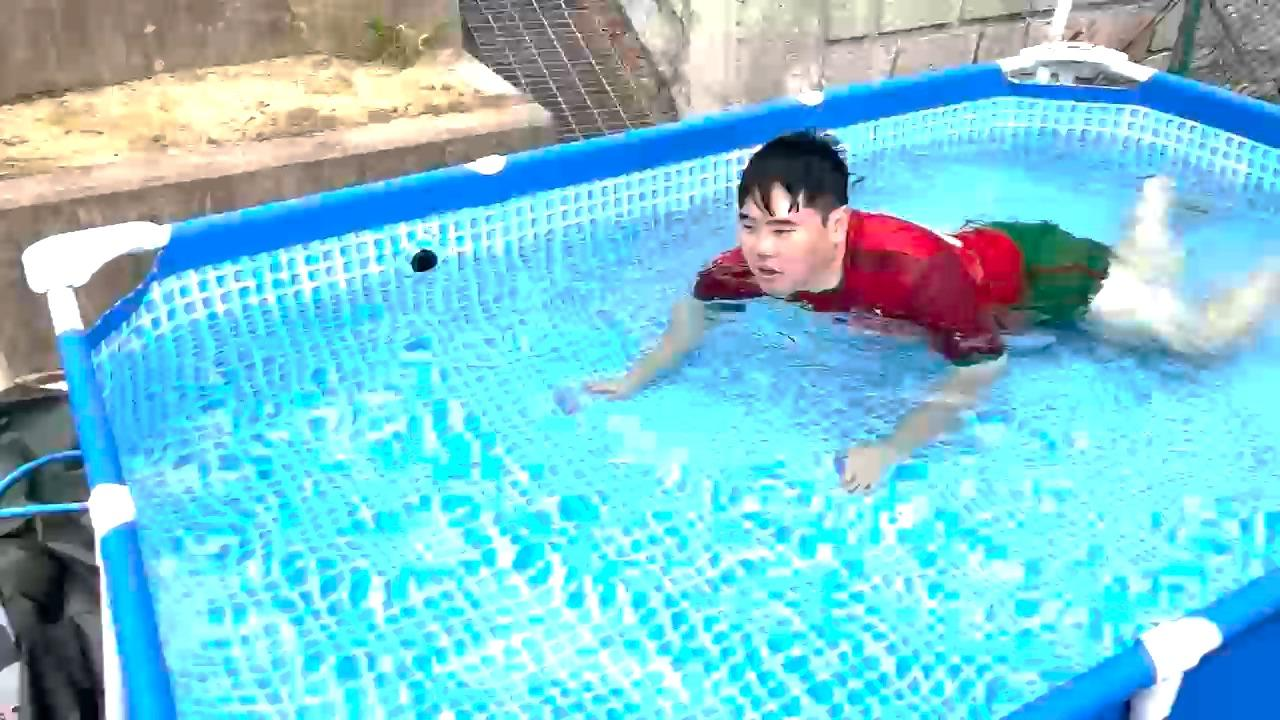Drowning: (597, 99, 1280, 458)
